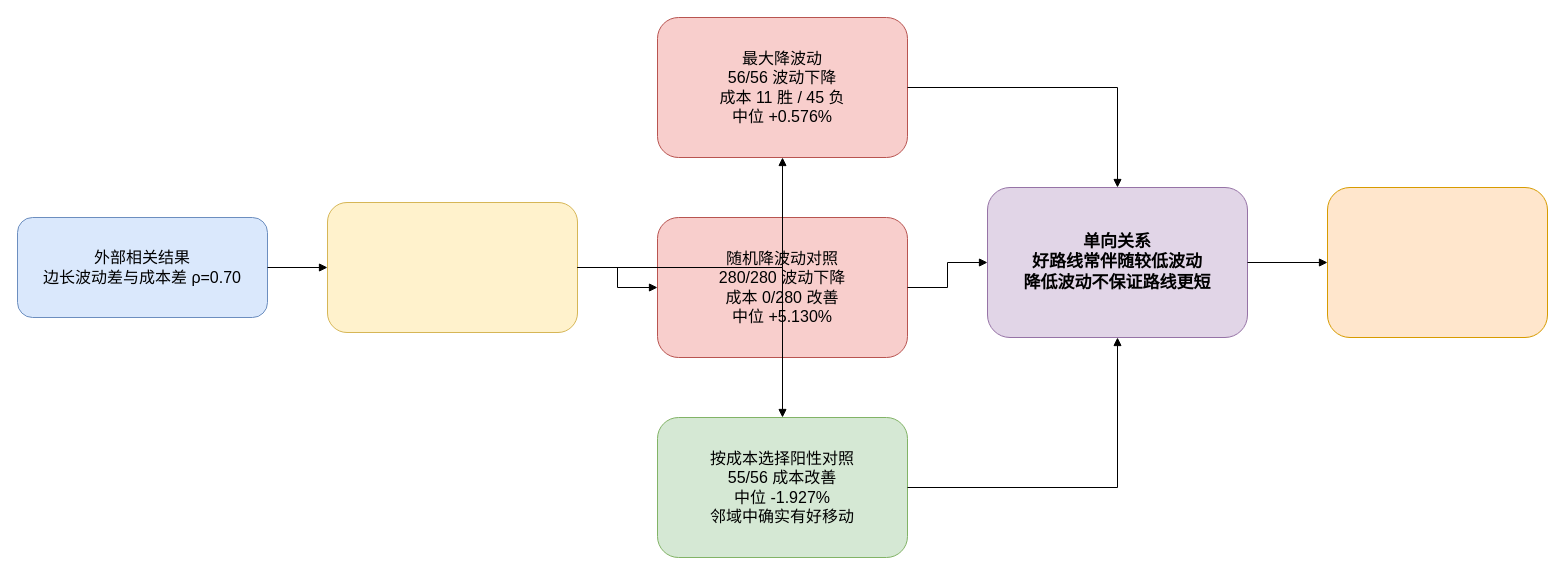
Image size: 1565x575. Some labels were removed from this diagram. Each missing label, with the centre of its shape:
"冻结 2-opt 干预 只按边长波动下降选移动 不按总成本排序" goes at pixel 452 267.
"科研决策 保留为预测标志 停止直接优化该指标 下一步比较共同局部修复" goes at pixel 1437 262.
